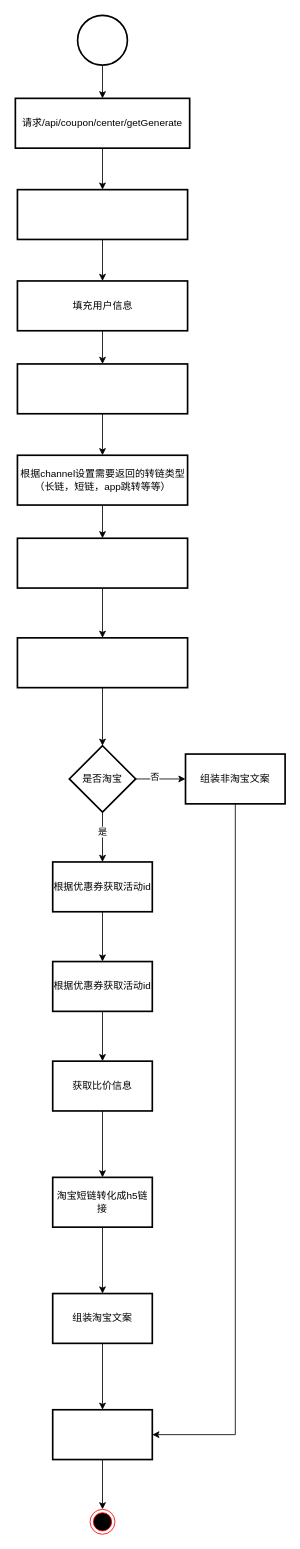
This 300x1549 diagram has some shape labels left out. The shapes that lost their labels are listed below. From the top down, each one's box as (x1, y1, x2, y2) in pixels, then its label:
(16, 188, 188, 240): 商品敏感词校验
(16, 363, 188, 414): 设置模版
(16, 537, 188, 588): 根据channel取不同的处理器，进行转链
(16, 637, 188, 688): 后置处理返回的链接
(51, 1409, 153, 1460): 返回
